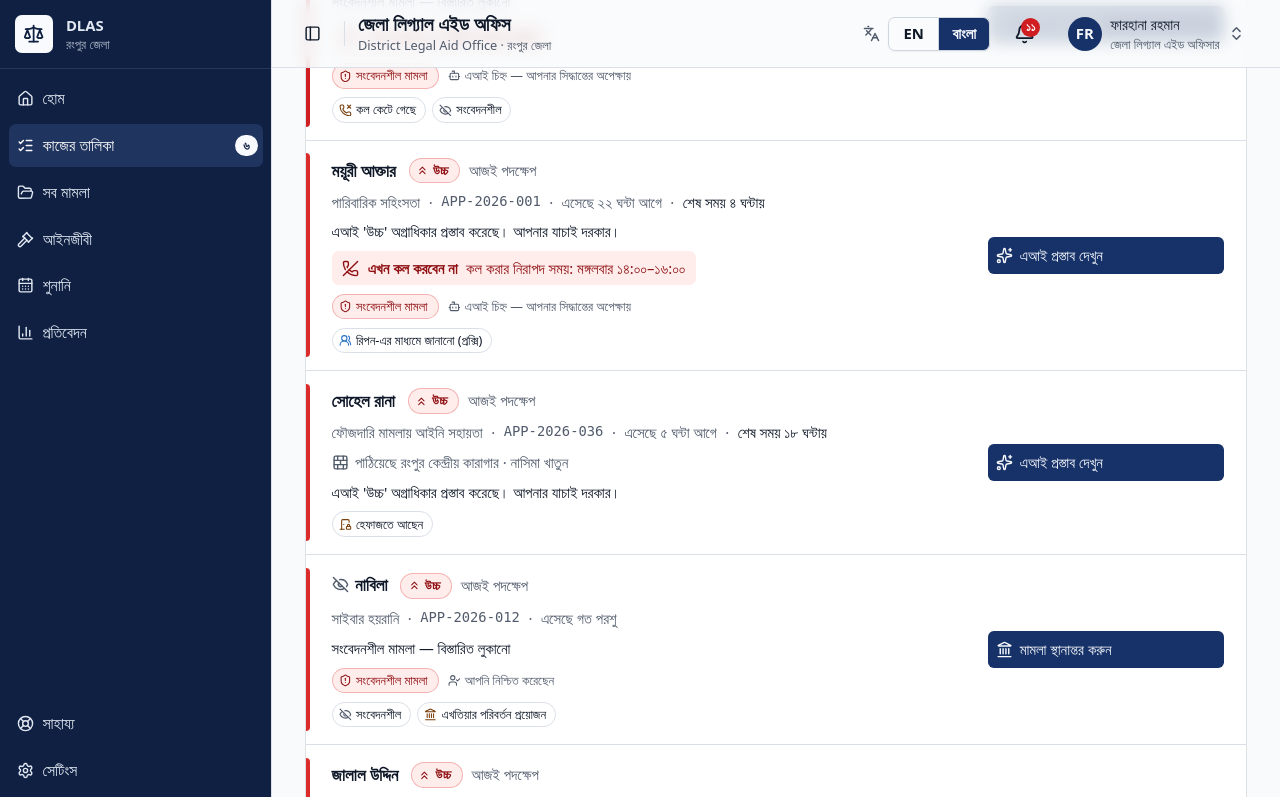
Test case: applications from courts and jails › is in Bangla too
This screenshot has width=1280, height=797.
(page scrolled)
Expected: the list item that starts with "সোহেল রানা" shows "পাঠিয়েছে রংপুর কেন্দ্রীয় কারাগার · নাসিমা খাতুন", [355,452,568,472]
Step 1. Click the button "সোহেল রানা" → point(363, 401), box [332,388,395,414]
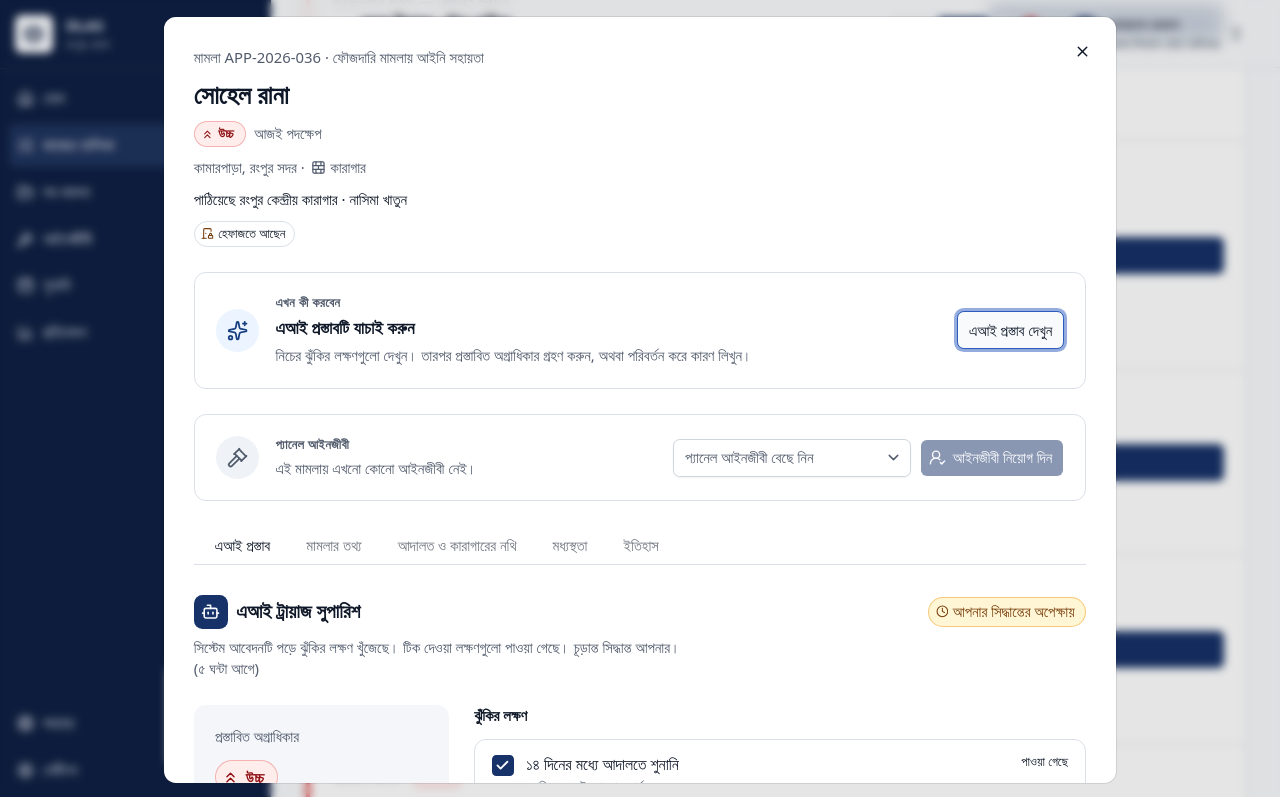
Expected: the text "হেফাজতে আছেন" is shown, [194,221,295,246]
Expected: the dialog shows "ফৌজদারি মামলায় আইনি সহায়তা", [194,47,484,67]
